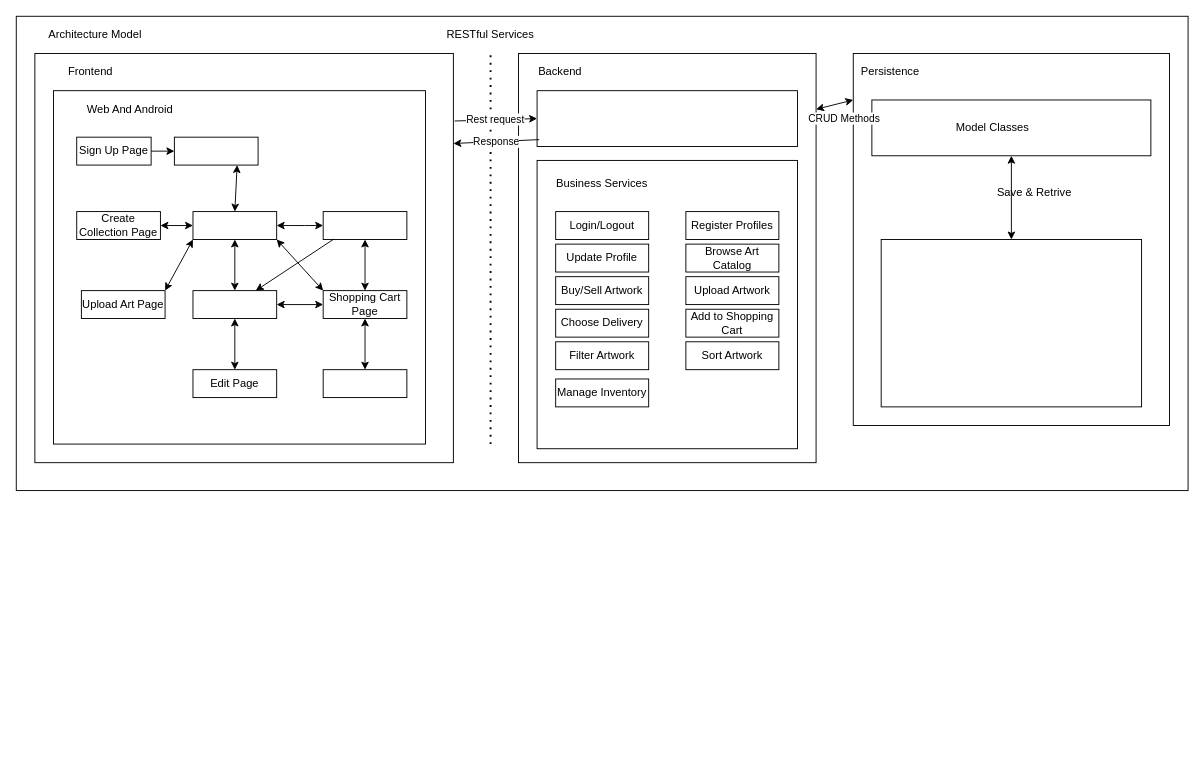
The diagram is 1204 pixels wide and 775 high, and some of its shapes have lost their labels. Here are the shapes that lost their labels. From the top down, the box of each, then its label:
(536, 90, 797, 146): Rest Controller
(173, 136, 258, 165): Login Page
(192, 211, 277, 239): Collections Page
(322, 211, 407, 239): Items Page
(192, 290, 277, 319): Profile Page
(880, 239, 1142, 407): Heroku Database
(322, 369, 407, 398): Checkout Page
